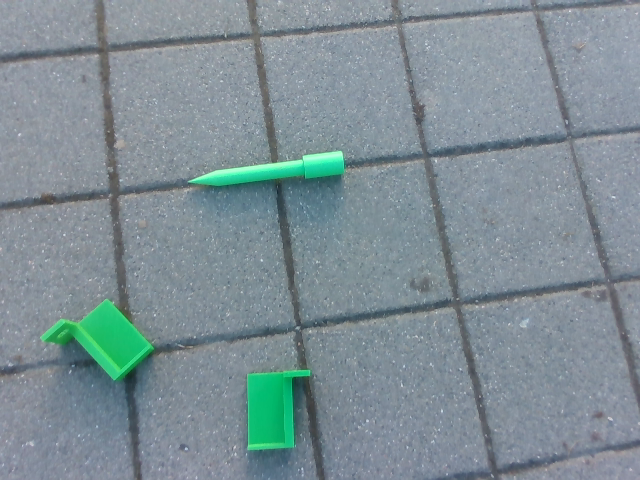Probe: (183, 140, 355, 193)
